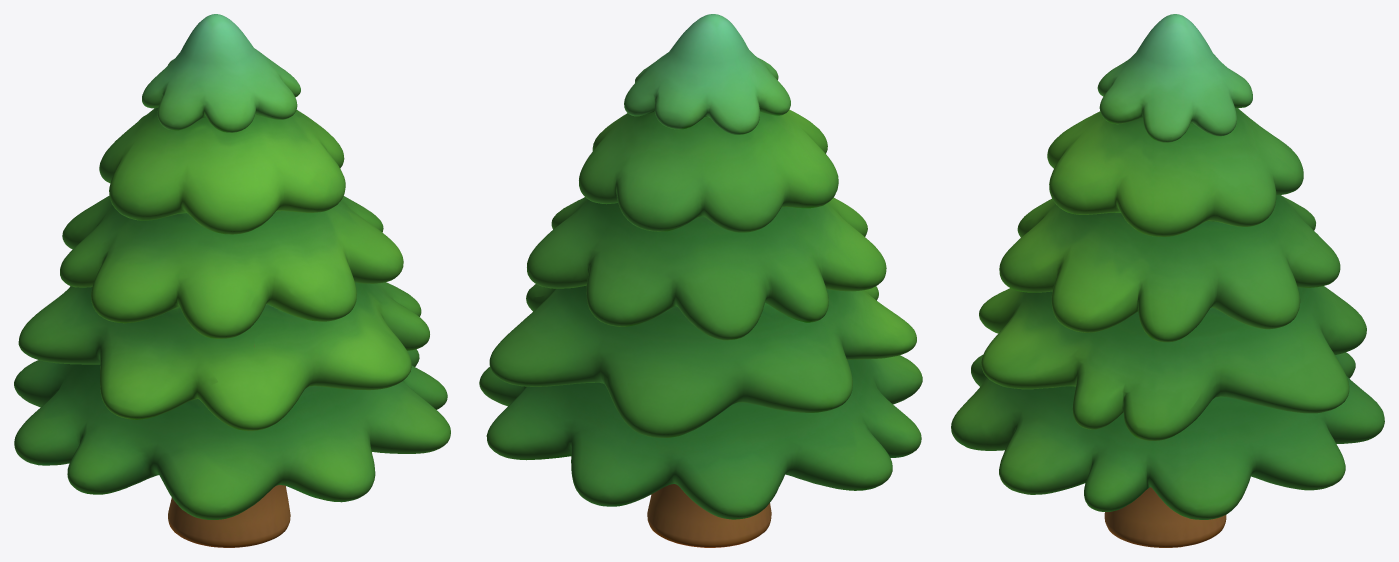
Rendered from C39_tree_b.fbx.
3 views of the same model, side by side, from view 1: azimuth 30°, elevation 25°; view 2: azimuth 150°, elevation 25°; view 3: azimuth 270°, elevation 25° (orthographic).
Parts seen in each view (by area): view 1: tripo_node_398e3c6e; view 2: tripo_node_398e3c6e; view 3: tripo_node_398e3c6e.
Boxes of the visible parts, x1,y1,x2,y2 form: tripo_node_398e3c6e: (14, 14, 450, 547); tripo_node_398e3c6e: (479, 14, 922, 547); tripo_node_398e3c6e: (951, 14, 1384, 547).
Size of the model in its own units: 0.8198 by 0.9995 by 0.7798.
